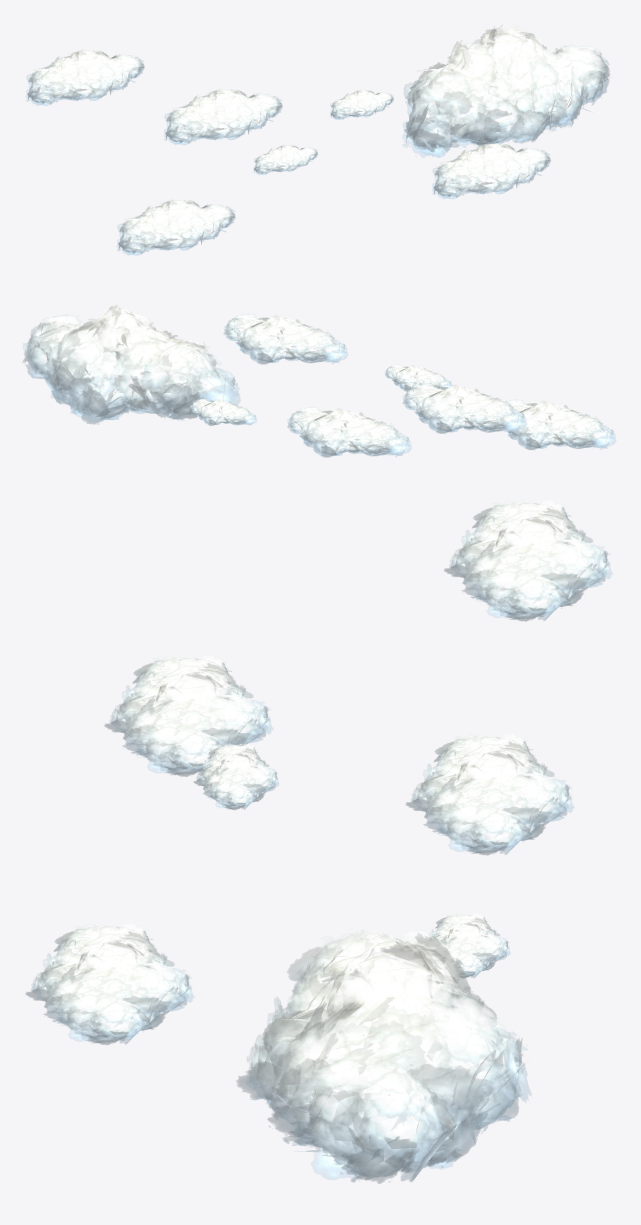
File: clouds.glb
The picture shows the model from 3 angles, top to bottom: view 1: azimuth 30°, elevation 25°; view 2: azimuth 150°, elevation 25°; view 3: azimuth 270°, elevation 25°; orthographic projection. The views are drawn at different scales.
Visible parts, largest first — view 1: Plane001_08 - Default_0.007, Plane001_08 - Default_0.001, Plane001_08 - Default_0.006, Plane001_08 - Default_0.005, Plane001_08 - Default_0.004, Plane001_08 - Default_0.002, Plane001; view 2: Plane001_08 - Default_0.007, Plane001_08 - Default_0.006, Plane001_08 - Default_0.001, Plane001_08 - Default_0.004, Plane001_08 - Default_0.005, Plane001_08 - Default_0.002, Plane001; view 3: Plane001_08 - Default_0.007, Plane001_08 - Default_0.004, Plane001_08 - Default_0.001, Plane001_08 - Default_0.006, Plane001_08 - Default_0.005, Plane001, Plane001_08 - Default_0.002.
Boxes of the visible parts, x1=… form: Plane001_08 - Default_0.007: x1=402, y1=24, x2=609, y2=157; Plane001_08 - Default_0.001: x1=164, y1=88, x2=282, y2=144; Plane001_08 - Default_0.006: x1=26, y1=49, x2=144, y2=105; Plane001_08 - Default_0.005: x1=116, y1=199, x2=235, y2=255; Plane001_08 - Default_0.004: x1=432, y1=143, x2=550, y2=199; Plane001_08 - Default_0.002: x1=330, y1=90, x2=393, y2=119; Plane001: x1=253, y1=145, x2=317, y2=174; Plane001_08 - Default_0.007: x1=23, y1=305, x2=240, y2=424; Plane001_08 - Default_0.006: x1=402, y1=383, x2=526, y2=433; Plane001_08 - Default_0.001: x1=287, y1=406, x2=411, y2=457; Plane001_08 - Default_0.004: x1=223, y1=313, x2=347, y2=364; Plane001_08 - Default_0.005: x1=505, y1=399, x2=616, y2=450; Plane001_08 - Default_0.002: x1=190, y1=398, x2=256, y2=425; Plane001: x1=385, y1=364, x2=451, y2=391; Plane001_08 - Default_0.007: x1=236, y1=929, x2=531, y2=1183; Plane001_08 - Default_0.004: x1=25, y1=923, x2=194, y2=1044; Plane001_08 - Default_0.001: x1=406, y1=733, x2=574, y2=855; Plane001_08 - Default_0.006: x1=444, y1=499, x2=612, y2=621; Plane001_08 - Default_0.005: x1=104, y1=655, x2=272, y2=776; Plane001: x1=194, y1=743, x2=278, y2=809; Plane001_08 - Default_0.002: x1=429, y1=913, x2=510, y2=978.
Bounding box in the file's own units: 113 × 30 × 57.29.
Materials: 1 (1 with a texture image).
